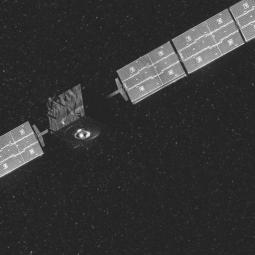smart_1: (0, 45, 199, 194)
